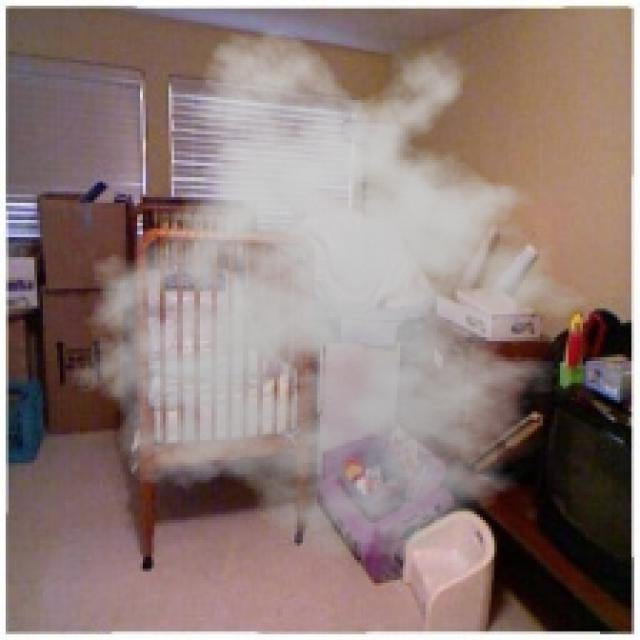smoke: (57, 26, 614, 560)
